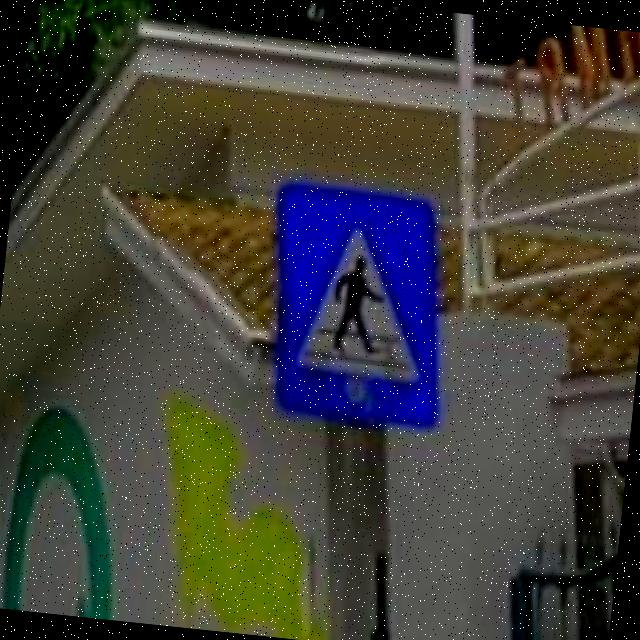Przejscie dla pieszych: (243, 173, 462, 428)
